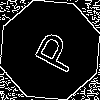P: (25, 25, 81, 76)
